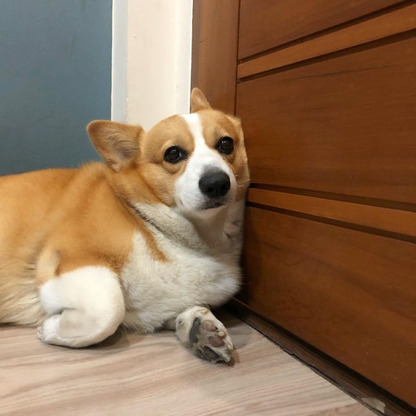Corgi: (42, 97, 280, 367)
